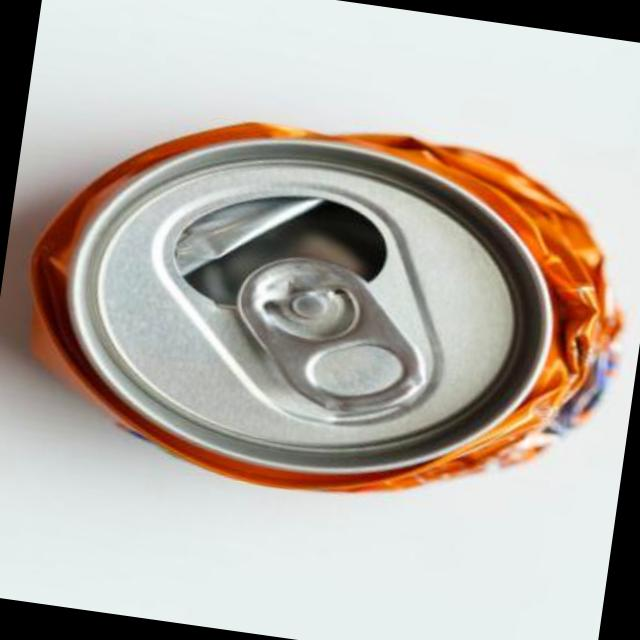metal: (34, 126, 624, 493)
